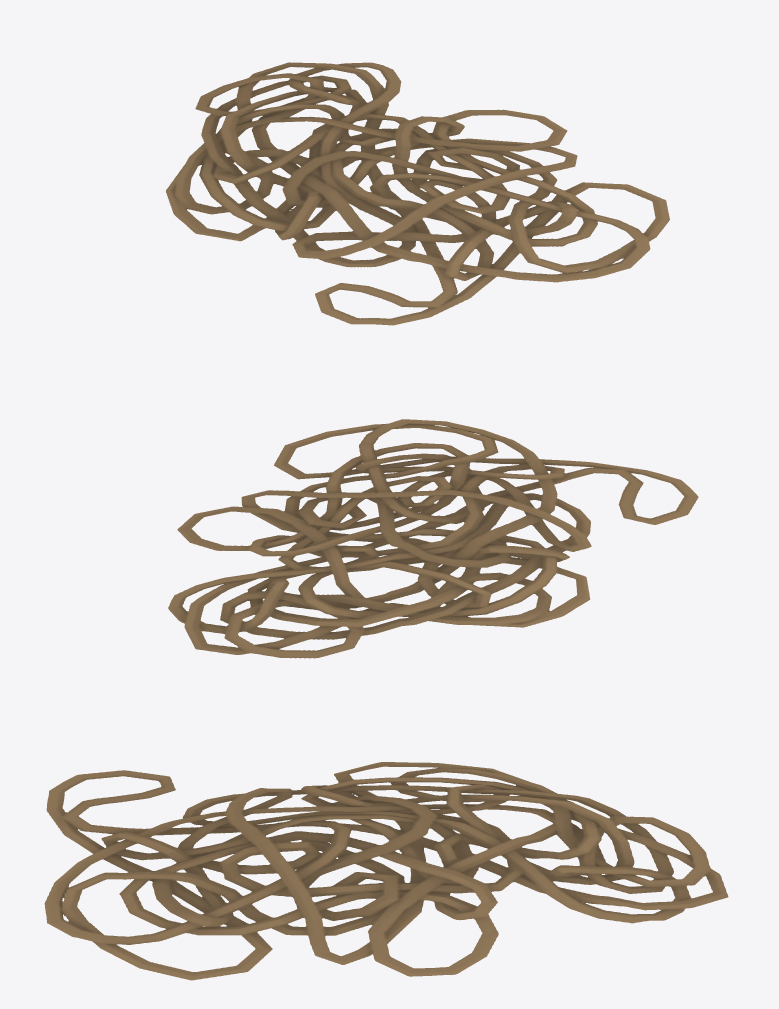
The model's file is SM_Prop_Ropes_03.fbx.
3 renders of one model, top to bottom at view 1: azimuth 30°, elevation 25°; view 2: azimuth 150°, elevation 25°; view 3: azimuth 270°, elevation 25°, orthographic. The views are drawn at different scales.
Visible parts, largest first — view 1: SM_Prop_Ropes_03; view 2: SM_Prop_Ropes_03; view 3: SM_Prop_Ropes_03.
Part boxes in pixels (<box>): SM_Prop_Ropes_03: <box>166,62,669,325</box>; SM_Prop_Ropes_03: <box>168,419,698,658</box>; SM_Prop_Ropes_03: <box>44,762,728,980</box>.
Size of the model in its own units: 148 by 9.49 by 196.
